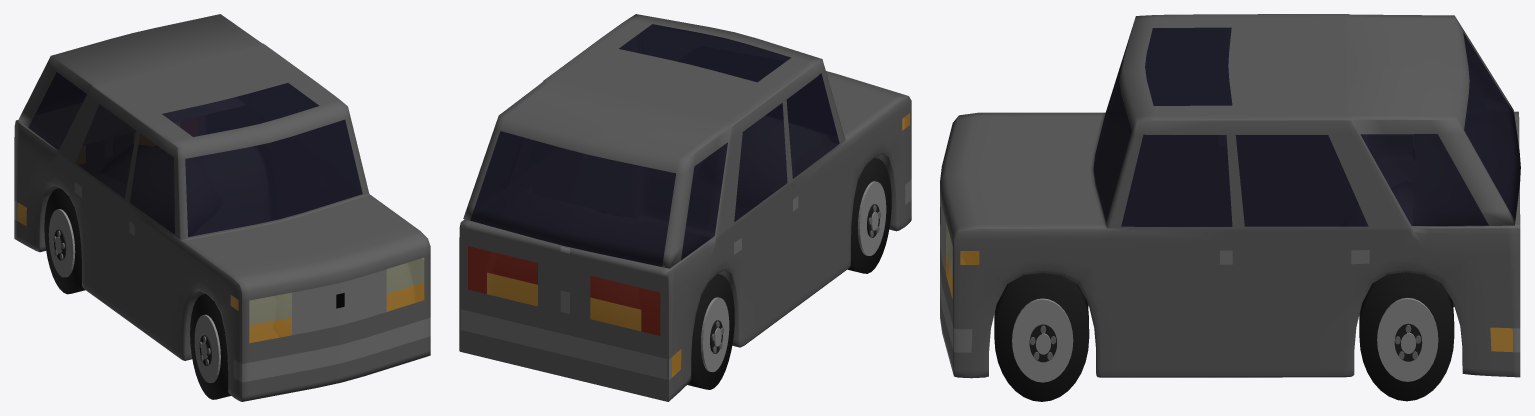
The model's file is car3wagonGray.fbx.
3 renders of one model, left to right at view 1: azimuth 30°, elevation 25°; view 2: azimuth 150°, elevation 25°; view 3: azimuth 270°, elevation 25°, orthographic. The views are drawn at different scales.
Visible parts, largest first — view 1: Car2, LugNut.001, LugNut.002; view 2: Car2, LugNut.002, LugNut.001; view 3: Car2, LugNut.004, LugNut.003.
Boxes of the visible parts, <box> form: Car2: <box>14,14,430,401</box>; LugNut.001: <box>190,294,231,399</box>; LugNut.002: <box>44,188,85,294</box>; Car2: <box>459,14,911,401</box>; LugNut.002: <box>687,274,734,389</box>; LugNut.001: <box>847,158,891,273</box>; Car2: <box>940,14,1520,378</box>; LugNut.004: <box>994,273,1089,401</box>; LugNut.003: <box>1359,272,1454,401</box>.
Bounding box in the file's own units: 187 × 204 × 385.
